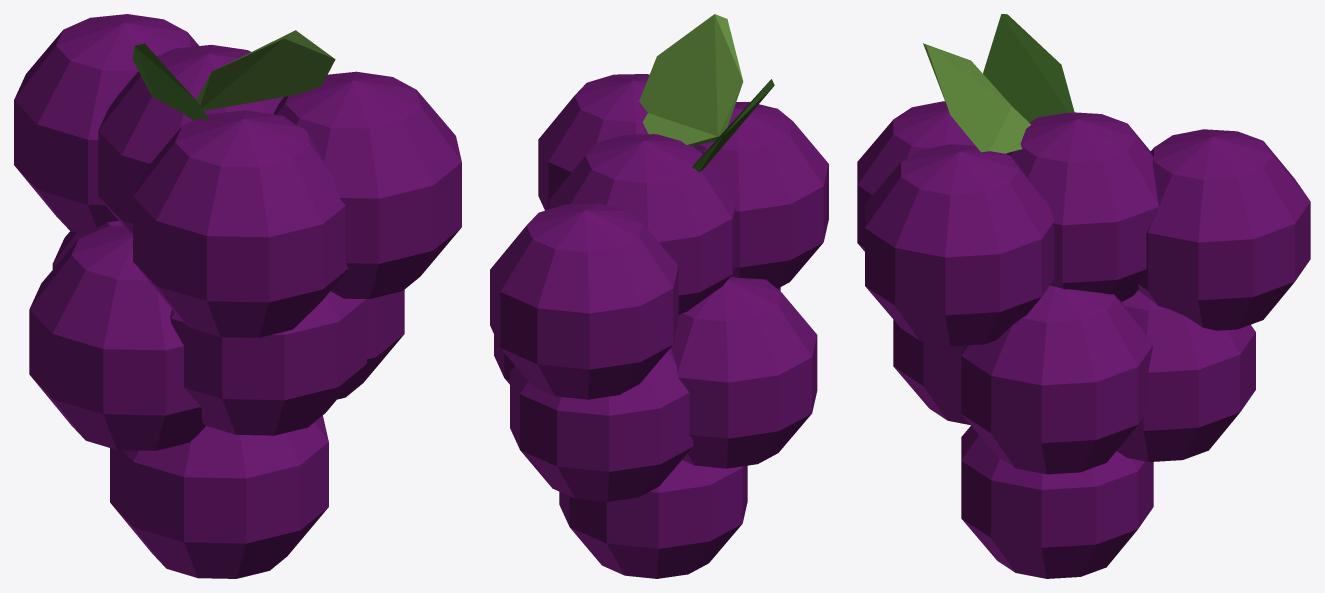
File: lowpoly_grapes.fbx
The picture shows the model from 3 angles, left to right: view 1: azimuth 30°, elevation 25°; view 2: azimuth 150°, elevation 25°; view 3: azimuth 270°, elevation 25°; orthographic projection. The views are drawn at different scales.
Visible parts, largest first — view 1: Sphere.005, Cube, Cube.001; view 2: Sphere.005, Cube, Cube.001; view 3: Sphere.005, Cube.001, Cube.
Part boxes in pixels (x1,y1,x2,y2): Sphere.005: (14, 14, 461, 578); Cube: (196, 30, 335, 110); Cube.001: (132, 43, 209, 120); Sphere.005: (490, 74, 828, 578); Cube: (639, 14, 743, 145); Cube.001: (692, 79, 774, 172); Sphere.005: (857, 101, 1310, 578); Cube.001: (983, 14, 1074, 122); Cube: (923, 43, 1030, 153).
Bounding box in the file's own units: 104 × 169 × 132.
